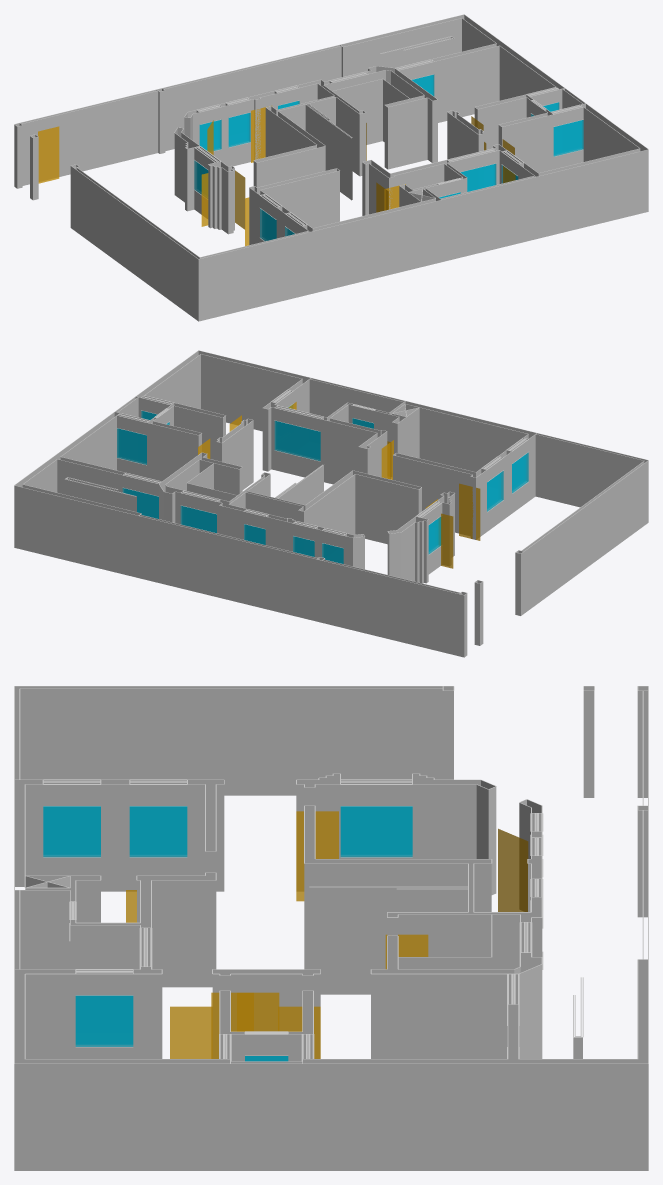
Rendered from c42b171e-1cac-4b21-beab-fba8f05f7bb7_no_roof.glb.
3 views of the same model, one above another, from view 1: azimuth 30°, elevation 25°; view 2: azimuth 150°, elevation 25°; view 3: azimuth 270°, elevation 25° (orthographic). The views are drawn at different scales.
Parts seen in each view (by area): view 1: walls, windows, doors; view 2: walls, windows, doors; view 3: walls, windows, doors.
Boxes of the visible parts, <box> form: walls: <box>14,14,648,321</box>; windows: <box>194,74,583,241</box>; doors: <box>38,105,515,246</box>; walls: <box>14,350,648,657</box>; windows: <box>117,405,528,563</box>; doors: <box>198,402,480,568</box>; walls: <box>14,686,648,1170</box>; windows: <box>43,806,412,1061</box>; doors: <box>126,811,528,1058</box>.
Size of the model in its own units: 18.92 by 2.5 by 13.43.
